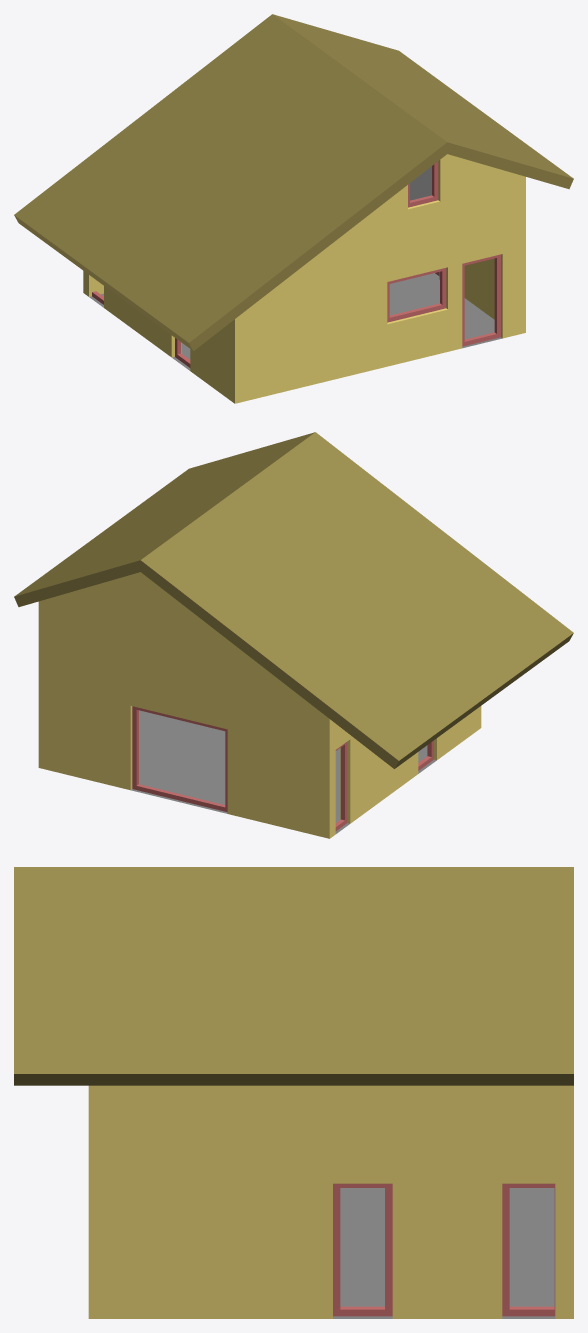
Rendered from result.glb.
3 views of the same model, one above another, from view 1: azimuth 30°, elevation 25°; view 2: azimuth 150°, elevation 25°; view 3: azimuth 270°, elevation 25° (orthographic). The views are drawn at different scales.
Visible parts, largest first — view 1: 19d8a4d7-5cba-4530-90a2-e0dbe2901ea3__undefined (×2), ef21ca3f-2a23-4797-836a-f64c3ed7b615__undefined, d88f80b6-3303-4934-83aa-fc0515163996__Plane_12, df6e1f7b-fa8f-4bf7-96a6-bc838fb57259__Box, 12d25e22-61b9-496c-8284-7260da982875__Box_3, 4d73fcb5-9ef6-41b8-874e-95888efaea4d__Box_36; view 2: 19d8a4d7-5cba-4530-90a2-e0dbe2901ea3__undefined (×2), ef21ca3f-2a23-4797-836a-f64c3ed7b615__undefined, d88f80b6-3303-4934-83aa-fc0515163996__Plane_12, d8aeb0f5-eddc-4b97-9b62-5bf874822c68__Box_9, 80e2e41f-eae6-47cd-ad51-2dd70c274e28__Box_15; view 3: 19d8a4d7-5cba-4530-90a2-e0dbe2901ea3__undefined, ef21ca3f-2a23-4797-836a-f64c3ed7b615__undefined, d88f80b6-3303-4934-83aa-fc0515163996__Plane_12, d26180c3-68ea-4f81-8b08-f5d3bf632853__Box_24, 4d6796fd-52d9-48b5-9e41-2fecf3301614__Box_27.
Boxes of the visible parts, x1,y1,x2,y2 form: 19d8a4d7-5cba-4530-90a2-e0dbe2901ea3__undefined (×2): [14, 14, 573, 350]; ef21ca3f-2a23-4797-836a-f64c3ed7b615__undefined: [83, 154, 525, 403]; d88f80b6-3303-4934-83aa-fc0515163996__Plane_12: [89, 273, 502, 370]; df6e1f7b-fa8f-4bf7-96a6-bc838fb57259__Box: [462, 254, 500, 346]; 12d25e22-61b9-496c-8284-7260da982875__Box_3: [387, 268, 446, 322]; 4d73fcb5-9ef6-41b8-874e-95888efaea4d__Box_36: [410, 166, 431, 200]; 19d8a4d7-5cba-4530-90a2-e0dbe2901ea3__undefined (×2): [14, 432, 573, 768]; ef21ca3f-2a23-4797-836a-f64c3ed7b615__undefined: [38, 572, 481, 838]; d88f80b6-3303-4934-83aa-fc0515163996__Plane_12: [131, 710, 436, 833]; d8aeb0f5-eddc-4b97-9b62-5bf874822c68__Box_9: [132, 706, 227, 812]; 80e2e41f-eae6-47cd-ad51-2dd70c274e28__Box_15: [335, 742, 347, 831]; 19d8a4d7-5cba-4530-90a2-e0dbe2901ea3__undefined: [14, 867, 573, 1085]; ef21ca3f-2a23-4797-836a-f64c3ed7b615__undefined: [88, 1085, 573, 1318]; d88f80b6-3303-4934-83aa-fc0515163996__Plane_12: [333, 1188, 555, 1318]; d26180c3-68ea-4f81-8b08-f5d3bf632853__Box_24: [333, 1183, 392, 1316]; 4d6796fd-52d9-48b5-9e41-2fecf3301614__Box_27: [502, 1183, 555, 1316].
Bounding box in the file's own units: 953 × 550 × 750.
